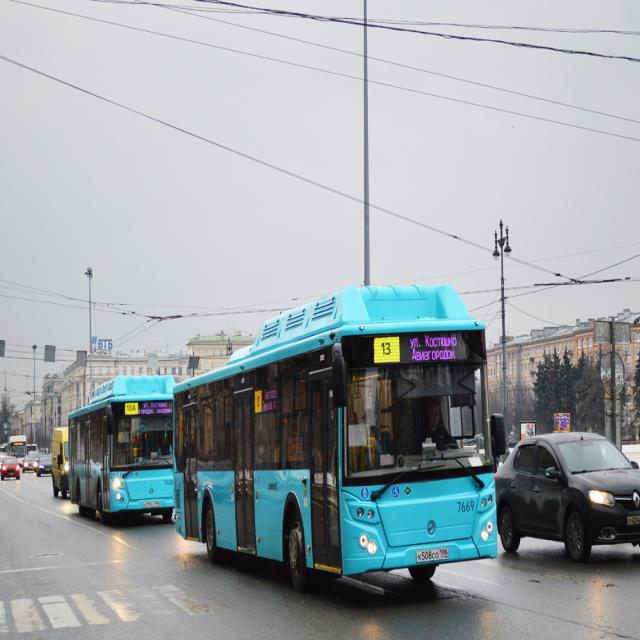number-of-bus: (380, 341, 395, 359)
